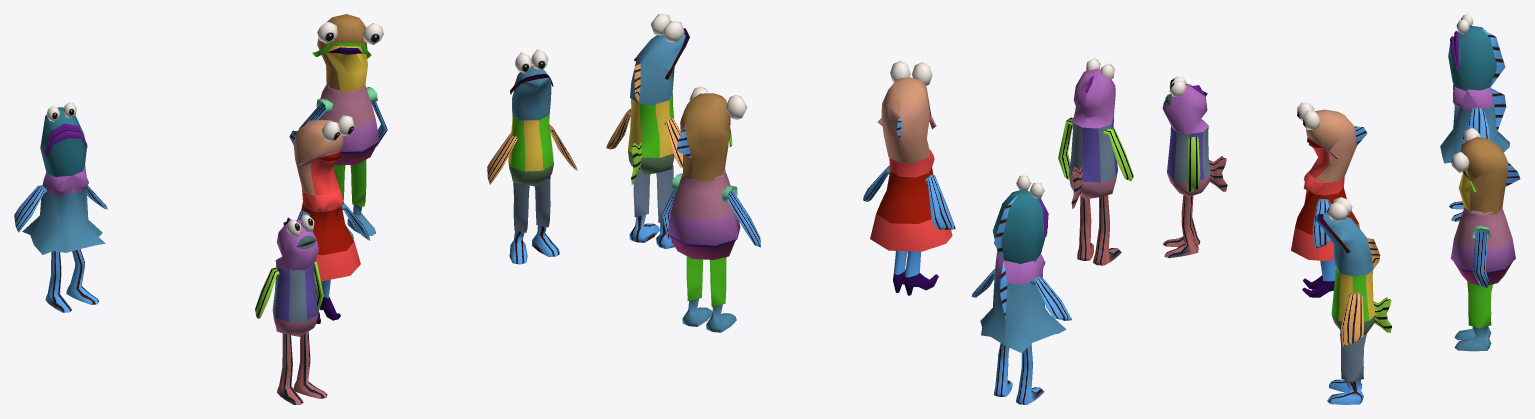
Rendered from crowd03.obj.
3 views of the same model, side by side, from view 1: azimuth 30°, elevation 25°; view 2: azimuth 150°, elevation 25°; view 3: azimuth 270°, elevation 25° (orthographic). The views are drawn at different scales.
Parts seen in each view (by area): view 1: 3D_Object_1; view 2: 3D_Object_1; view 3: 3D_Object_1.
Part boxes in pixels (x1,y1,x2,y2): 3D_Object_1: (14, 14, 577, 404); 3D_Object_1: (606, 14, 1133, 404); 3D_Object_1: (1162, 14, 1520, 404).
Bounding box in the file's own units: 4.85 × 2.04 × 3.24.
Materials: 1 (1 with a texture image).
